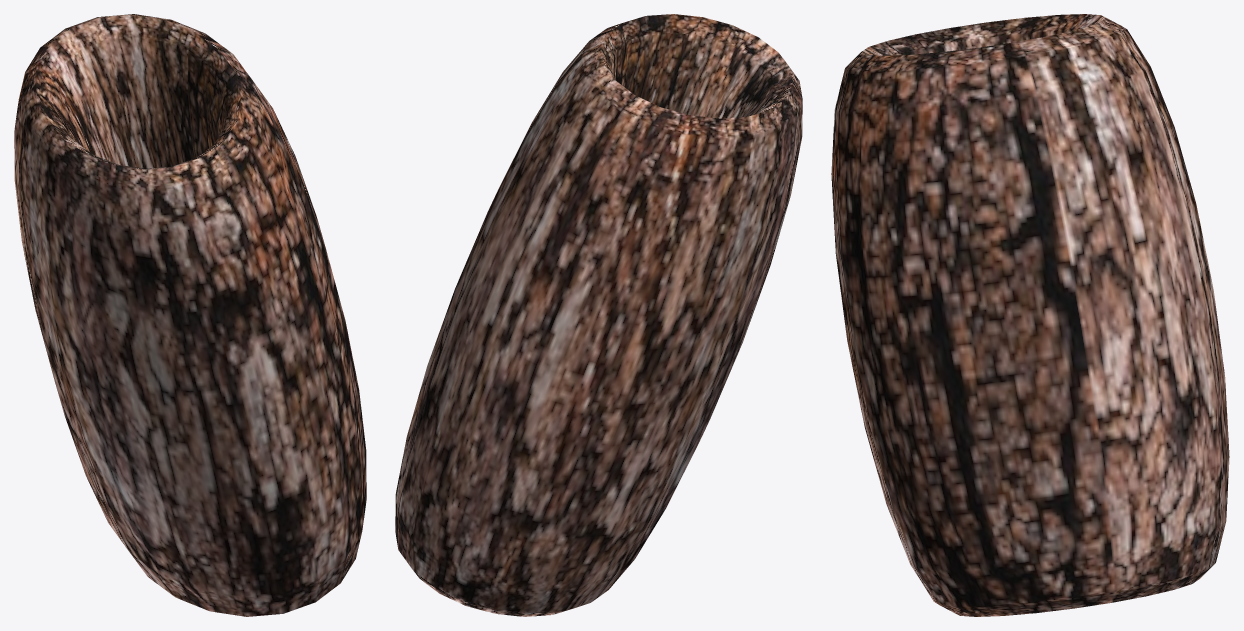
The model's file is Llanta.obj.
The picture shows the model from 3 angles, left to right: view 1: azimuth 30°, elevation 25°; view 2: azimuth 150°, elevation 25°; view 3: azimuth 270°, elevation 25°; orthographic projection. The views are drawn at different scales.
Visible parts, largest first — view 1: Llanta:pTorus1; view 2: Llanta:pTorus1; view 3: Llanta:pTorus1.
Part boxes in pixels (x1=…): Llanta:pTorus1: x1=14, y1=14, x2=366, y2=616; Llanta:pTorus1: x1=395, y1=14, x2=802, y2=616; Llanta:pTorus1: x1=831, y1=14, x2=1229, y2=616.
Bounding box in the file's own units: 0.8406 × 1.42 × 0.938.
1 material, 1 textured.
